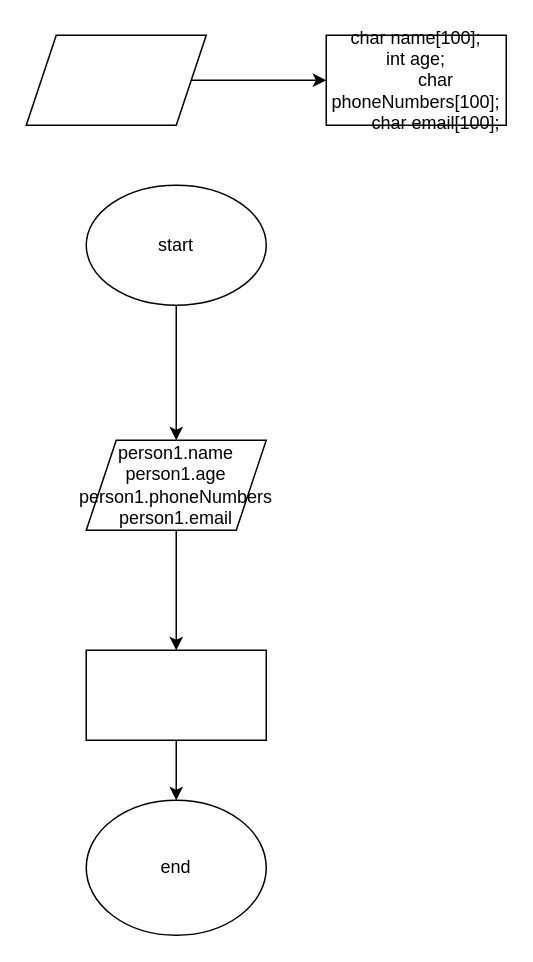
Some shapes in this 533 by 962 pixel diagram are drawn without their labels. The centre of each missing label's shape, as x and y in pixels:
struct: the point at 115,79
tên tuổi số điện thoai email: the point at 175,694
